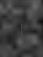one: (19, 19, 21, 37)
